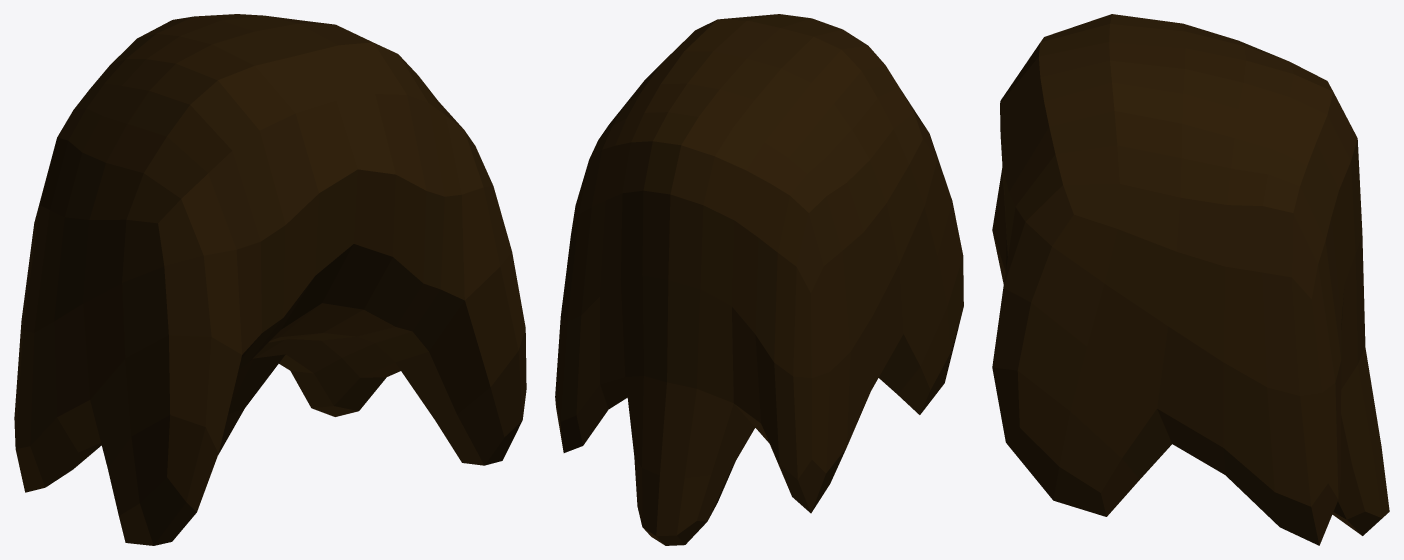
File: Long Hair 1.fbx
3 views of the same model, side by side, from view 1: azimuth 30°, elevation 25°; view 2: azimuth 150°, elevation 25°; view 3: azimuth 270°, elevation 25° (orthographic). The views are drawn at different scales.
Visible parts, largest first — view 1: Hair 1.001; view 2: Hair 1.001; view 3: Hair 1.001.
Part boxes in pixels (x1,y1,x2,y2): Hair 1.001: [14, 14, 526, 545]; Hair 1.001: [555, 14, 963, 545]; Hair 1.001: [992, 14, 1389, 545].
Size of the model in its own units: 45.75 by 63.42 by 46.76.
